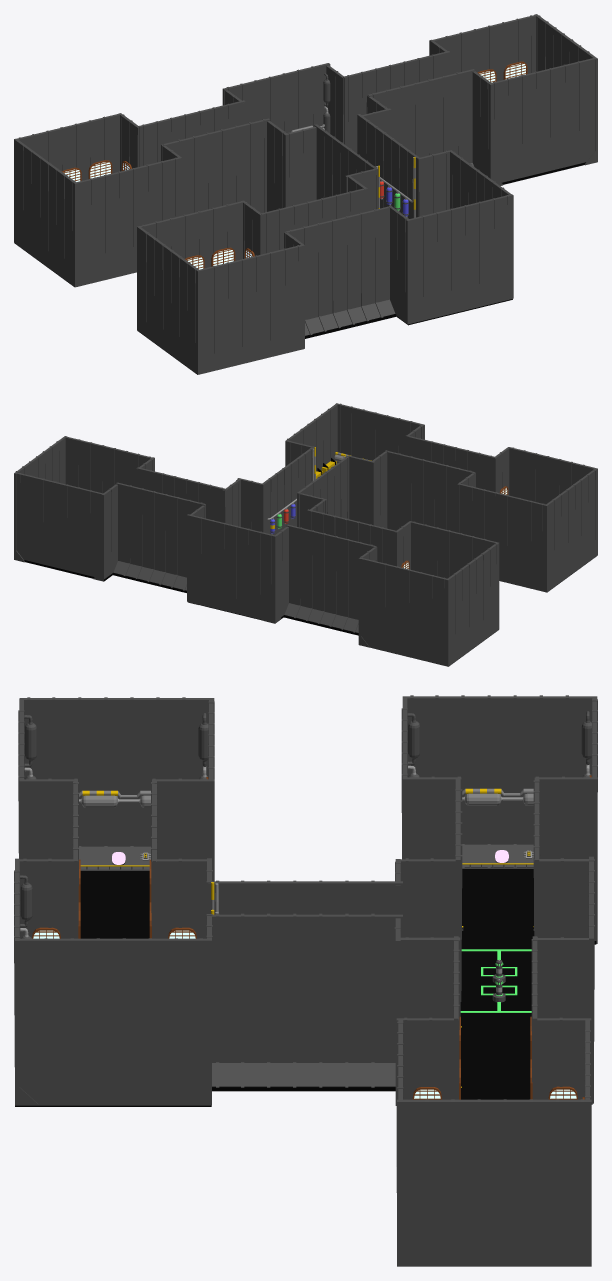
The model's file is Level4.fbx.
3 renders of one model, top to bottom at view 1: azimuth 30°, elevation 25°; view 2: azimuth 150°, elevation 25°; view 3: azimuth 270°, elevation 25°, orthographic. The views are drawn at different scales.
Parts seen in each view (by area): view 1: Wall2.029, Wall2.031, Wall1.026, СТЕНИЩЕ 2.044, Wall2.028, СТЕНИЩЕ 2.042, Wall2.027, Wall2.030, СТЕНИЩЕ 2.040, Wall2.032, Wall3.025, Wall3.027 (+16 smaller); view 2: Wall2.032, Wall3.026, Wall3.025, СТЕНИЩЕ 2.041, СТЕНИЩЕ 2.039, Wall3.027, СТЕНИЩЕ 2.043, Wall2.027, Wall2.030, Wall2.029, Wall1.026, Wall2.031 (+16 smaller); view 3: Wall1.025, Wall1.027, WallWithCapsules.013, Wall2.027, Wall2.030, WalktroughWall1.043, WalktroughWall1.042, WalktroughWall1.045, WalktroughWall2.032, WalktroughWall1.044, WalktroughWall2.033, WallWithCapsules.014 (+18 smaller).
Boxes of the visible parts, bbox=[...] form: Wall2.029: bbox=[400, 194, 513, 324]; Wall2.031: bbox=[197, 244, 304, 374]; Wall1.026: bbox=[492, 58, 594, 184]; СТЕНИЩЕ 2.044: bbox=[285, 206, 395, 335]; Wall2.028: bbox=[74, 157, 181, 286]; СТЕНИЩЕ 2.042: bbox=[163, 118, 270, 215]; Wall2.027: bbox=[14, 138, 75, 287]; Wall2.030: bbox=[137, 226, 198, 374]; СТЕНИЩЕ 2.040: bbox=[367, 69, 474, 166]; Wall2.032: bbox=[222, 63, 330, 133]; Wall3.025: bbox=[433, 15, 536, 82]; Wall3.027: bbox=[138, 201, 242, 269]; Wall2.032: bbox=[187, 514, 281, 623]; Wall3.026: bbox=[361, 558, 448, 663]; Wall3.025: bbox=[16, 472, 103, 577]; СТЕНИЩЕ 2.041: bbox=[284, 524, 376, 632]; СТЕНИЩЕ 2.039: bbox=[113, 482, 205, 590]; Wall3.027: bbox=[459, 484, 546, 589]; СТЕНИЩЕ 2.043: bbox=[387, 451, 474, 532]; Wall2.027: bbox=[437, 543, 499, 666]; Wall2.030: bbox=[536, 468, 597, 592]; Wall2.029: bbox=[334, 403, 424, 462]; Wall1.026: bbox=[65, 436, 151, 493]; Wall2.031: bbox=[508, 447, 597, 504]; Wall1.025: bbox=[397, 1099, 591, 1266]; Wall1.027: bbox=[16, 938, 210, 1105]; WallWithCapsules.013: bbox=[211, 909, 402, 1087]; Wall2.027: bbox=[403, 695, 597, 868]; Wall2.030: bbox=[19, 697, 214, 870]; WalktroughWall1.043: bbox=[403, 776, 597, 943]; WalktroughWall1.042: bbox=[396, 1017, 591, 1192]; WalktroughWall1.045: bbox=[19, 778, 214, 881]; WalktroughWall2.032: bbox=[398, 937, 588, 1087]; WalktroughWall1.044: bbox=[15, 858, 210, 938]; WalktroughWall2.033: bbox=[398, 858, 588, 1027]; WallWithCapsules.014: bbox=[208, 880, 402, 914].
Size of the model in its own units: 58956 by 11570 by 35883.
